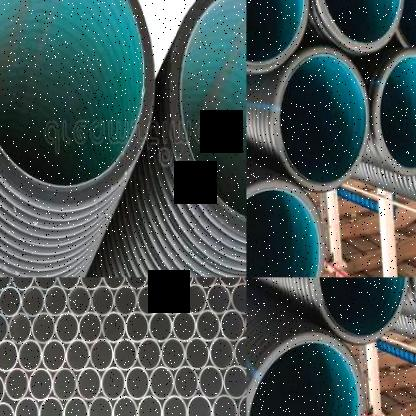pipe: (0, 0, 154, 206), (168, 0, 246, 241), (274, 47, 368, 192), (248, 340, 360, 416), (246, 188, 320, 277), (314, 278, 408, 344), (373, 49, 416, 176), (312, 0, 405, 52), (246, 0, 310, 74), (395, 0, 416, 56), (76, 367, 102, 402), (198, 365, 223, 400), (101, 366, 125, 402), (209, 337, 235, 370), (4, 368, 29, 402), (149, 366, 174, 400), (125, 366, 150, 400), (52, 368, 77, 402), (28, 368, 53, 402), (113, 338, 138, 372), (89, 338, 114, 372), (18, 340, 43, 373), (185, 337, 210, 370), (137, 338, 162, 371), (7, 312, 32, 345), (42, 338, 66, 372), (174, 366, 198, 400), (222, 365, 246, 399), (220, 310, 245, 342), (67, 286, 92, 318), (101, 312, 126, 344), (31, 312, 56, 344), (148, 311, 173, 343), (66, 339, 90, 372), (172, 310, 196, 343), (159, 284, 184, 315), (136, 285, 161, 316), (78, 312, 102, 344), (44, 286, 68, 318), (21, 286, 45, 318), (161, 338, 185, 370), (196, 310, 220, 342), (125, 312, 149, 344), (206, 284, 231, 314), (183, 284, 207, 315), (55, 312, 78, 344), (91, 286, 114, 316), (114, 286, 137, 316), (0, 286, 21, 317), (0, 340, 18, 374), (211, 393, 237, 416), (185, 394, 212, 416), (62, 395, 88, 416), (136, 395, 162, 416), (230, 282, 247, 314), (88, 395, 113, 416), (38, 395, 63, 416), (112, 395, 137, 416), (162, 395, 187, 416), (232, 337, 247, 370), (14, 397, 39, 416), (33, 277, 58, 292), (102, 277, 126, 290), (0, 312, 9, 346), (125, 277, 148, 290), (57, 277, 80, 290), (80, 277, 103, 290), (11, 277, 34, 290), (170, 277, 194, 289), (147, 277, 171, 289), (217, 277, 242, 288), (193, 277, 218, 288), (236, 393, 246, 416), (0, 401, 15, 416), (0, 277, 12, 292), (0, 373, 4, 407)
